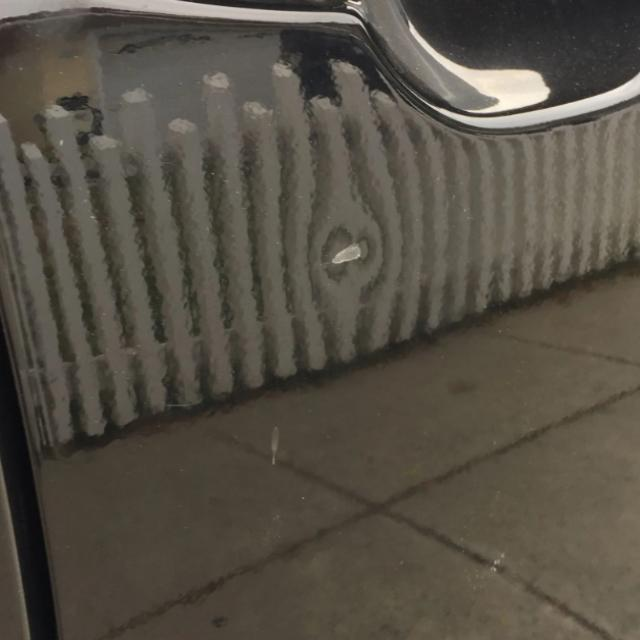dents: (300, 190, 404, 301)
